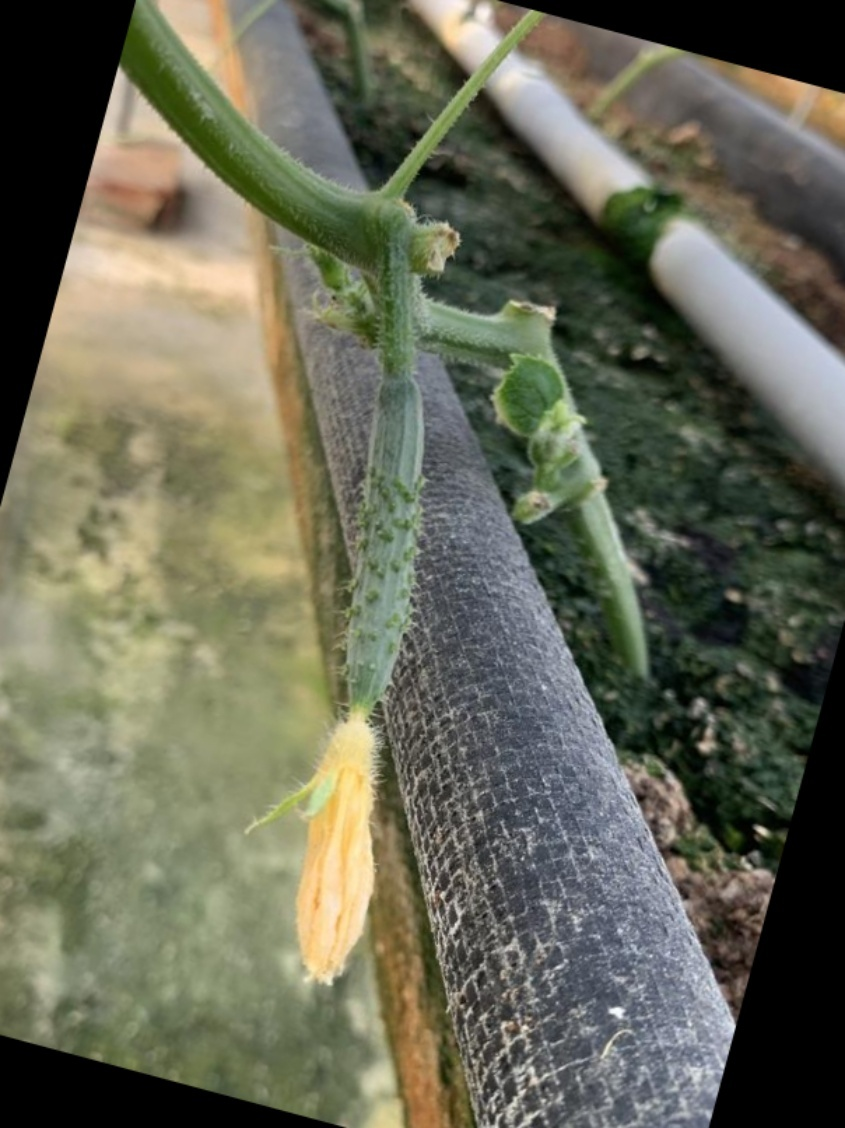bear: (229, 343, 471, 1012)
